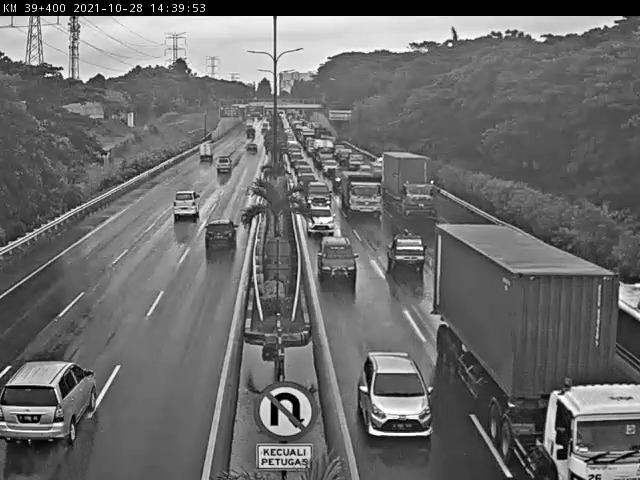big truck: (436, 225, 640, 480), (379, 152, 429, 211), (337, 171, 383, 215)
car: (0, 359, 97, 443), (359, 350, 431, 437), (317, 238, 356, 279), (384, 233, 426, 269), (204, 220, 239, 250), (305, 202, 333, 231), (173, 191, 200, 220), (304, 178, 329, 201), (215, 156, 233, 176), (297, 172, 316, 187)
